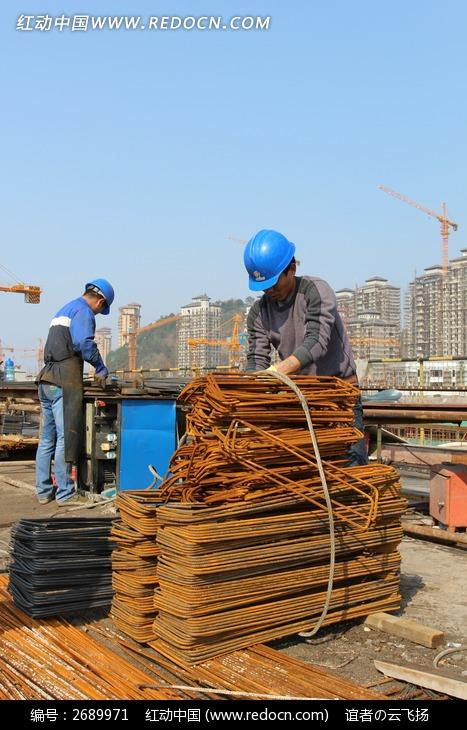helmet: (242, 228, 297, 294), (85, 278, 115, 318)
